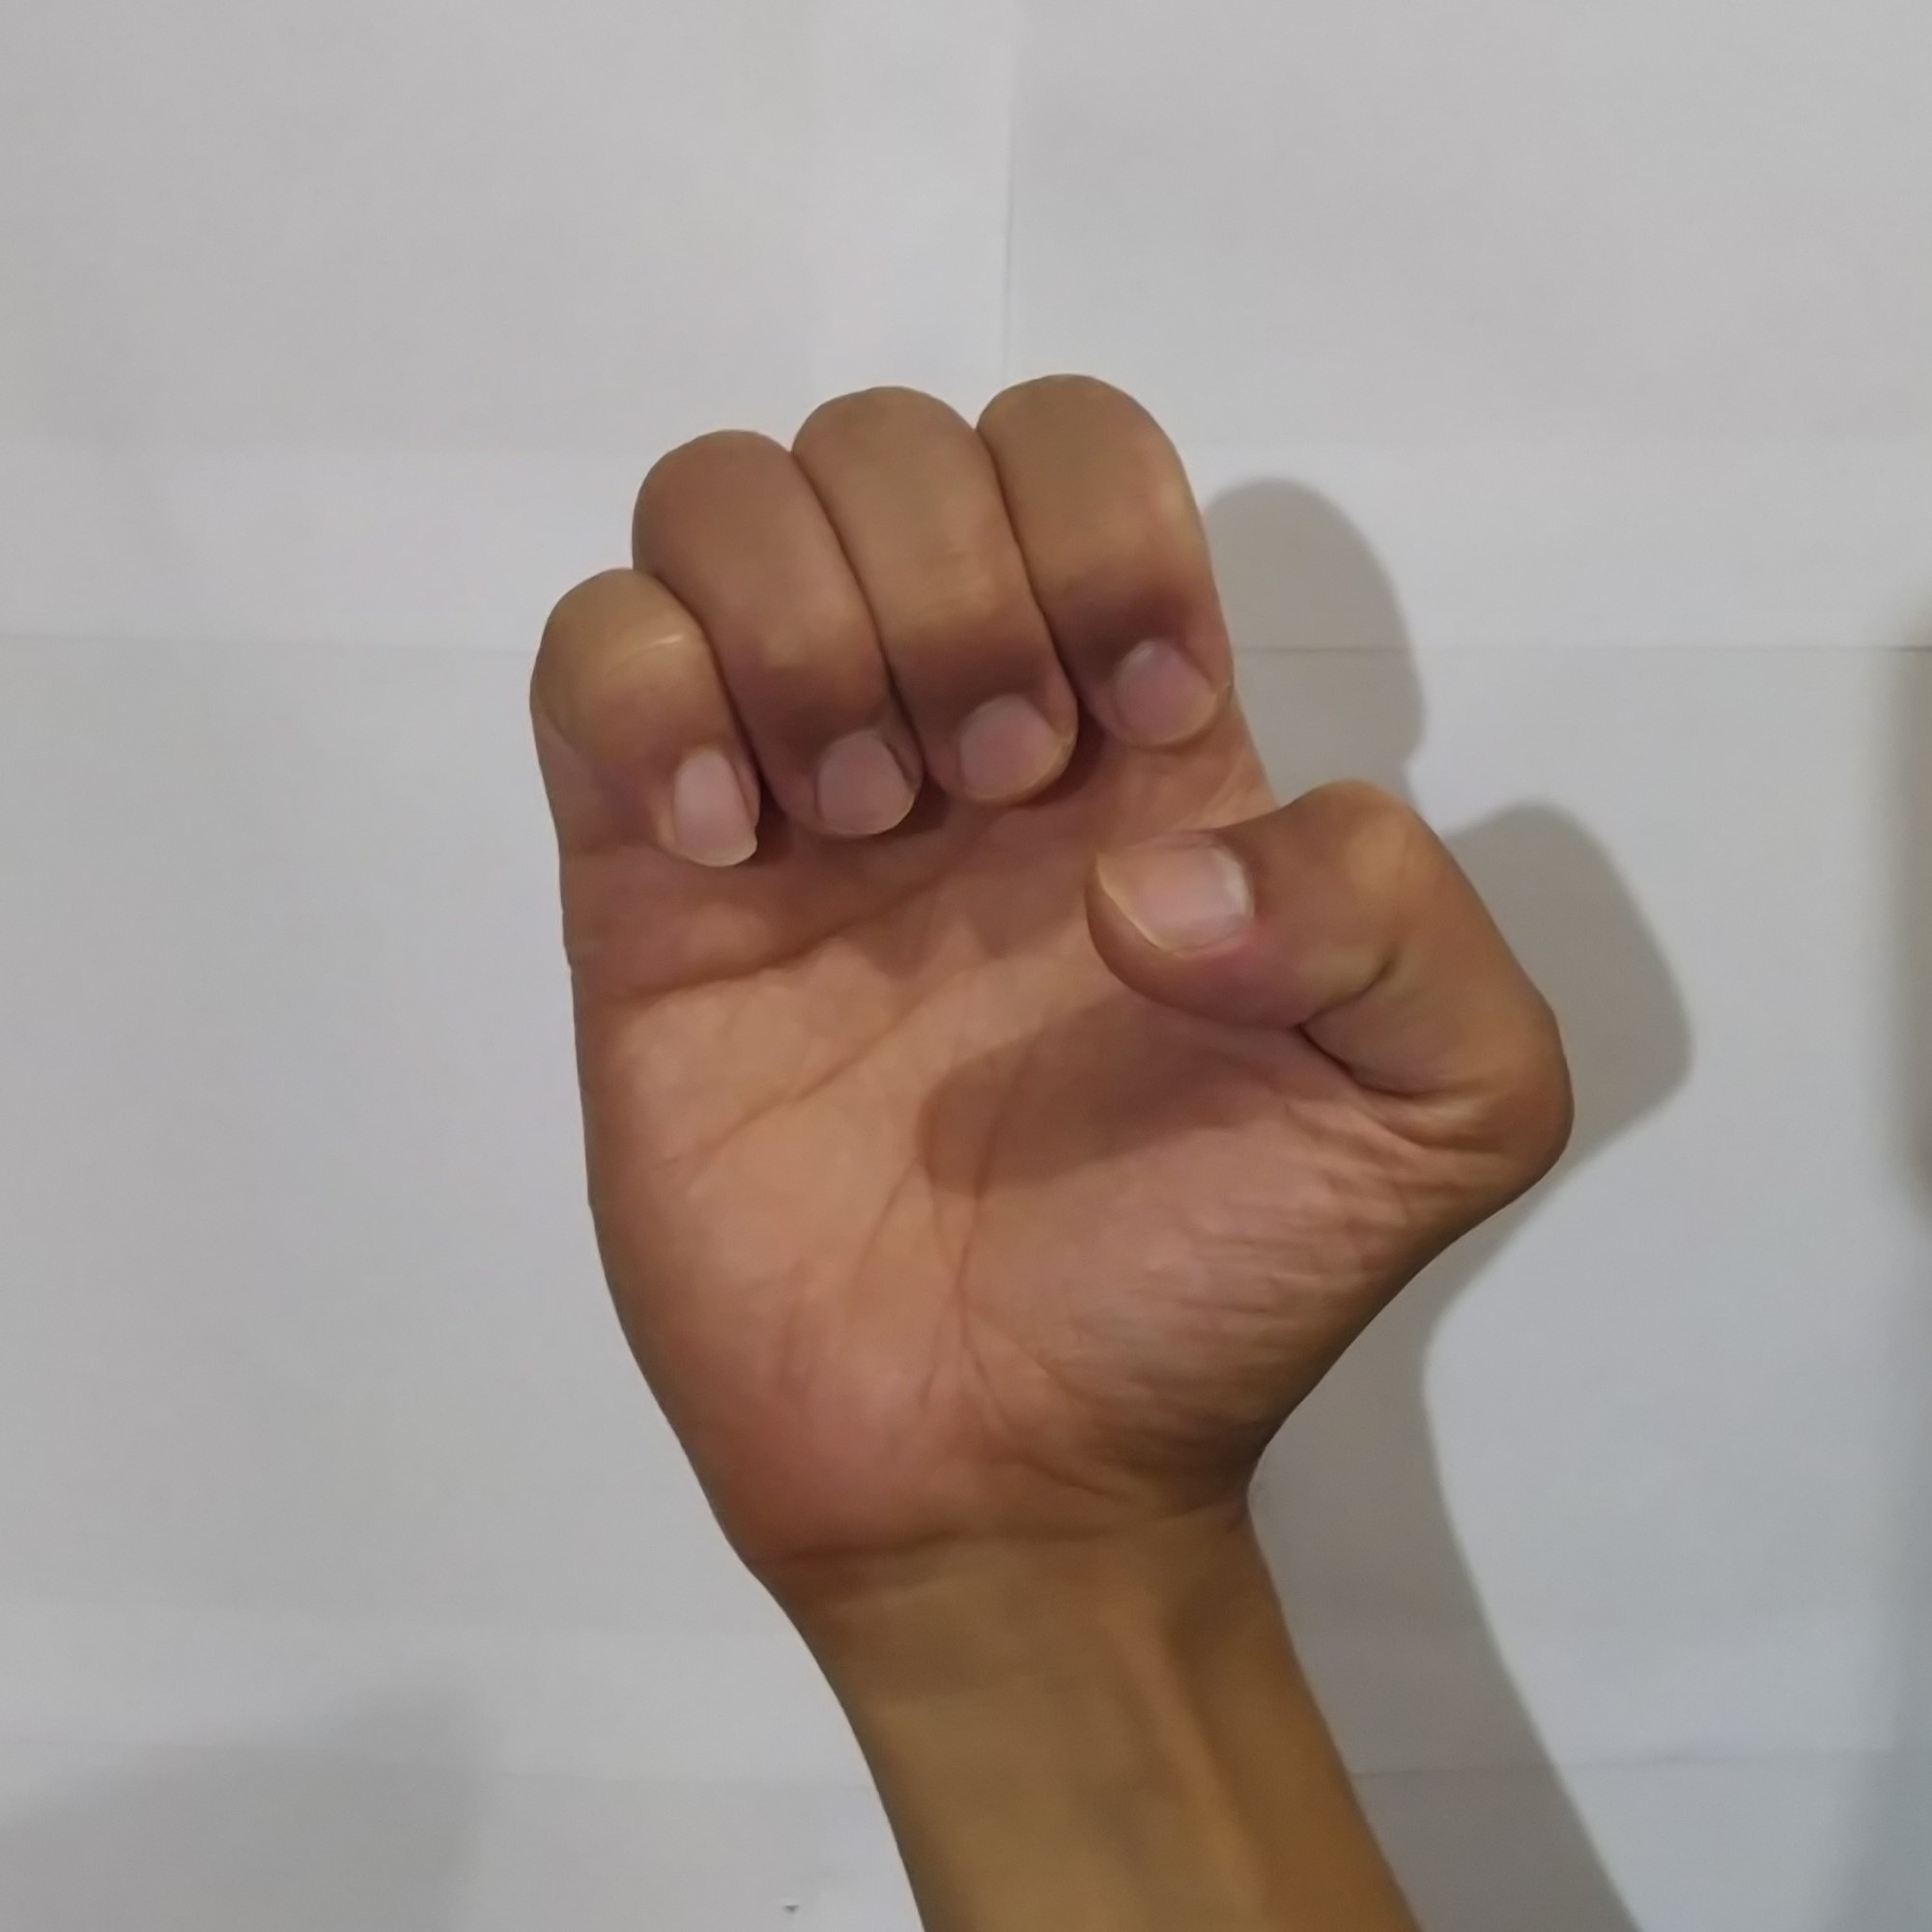E: (506, 361, 1594, 1488)
